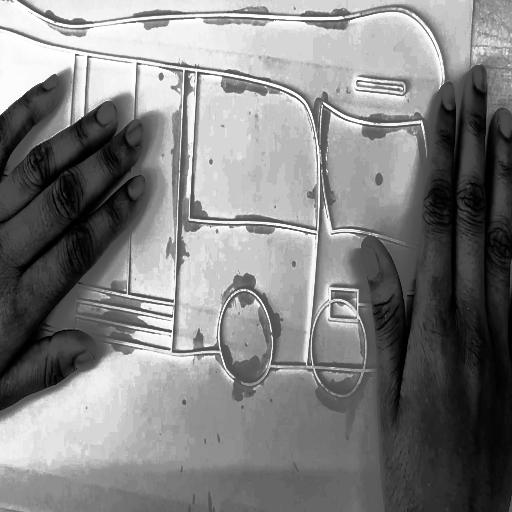bus: (0, 5, 457, 415)
